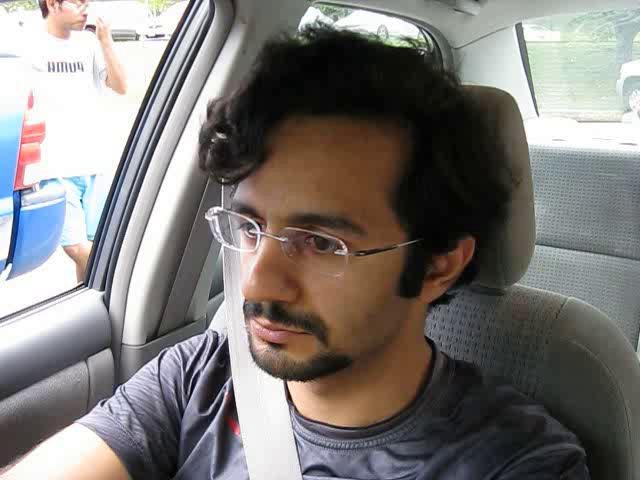no_yawn: (237, 299, 323, 354)
open_eyeL: (216, 204, 273, 250)
open_eyeR: (284, 218, 363, 268)
